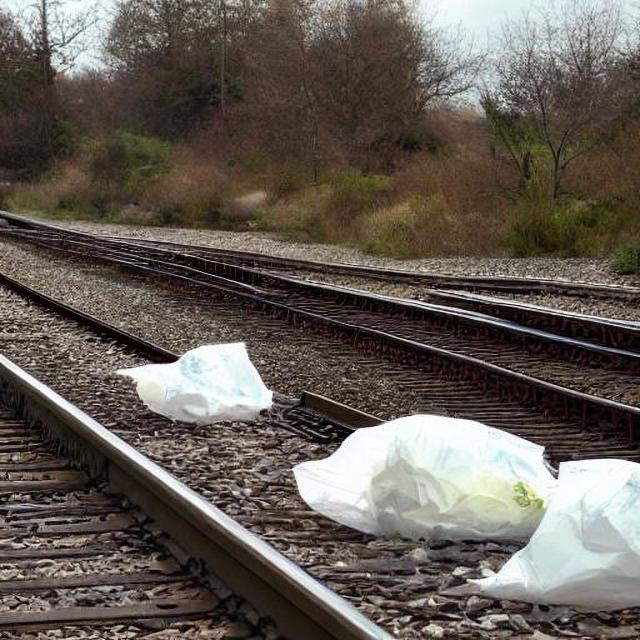plastic bag: (468, 410, 637, 638), (284, 396, 546, 531), (106, 328, 297, 441)
